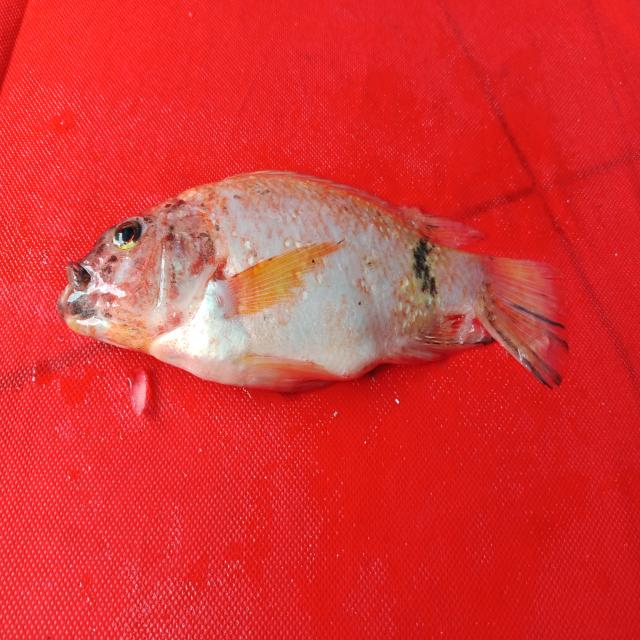ikan: (53, 172, 579, 422)
